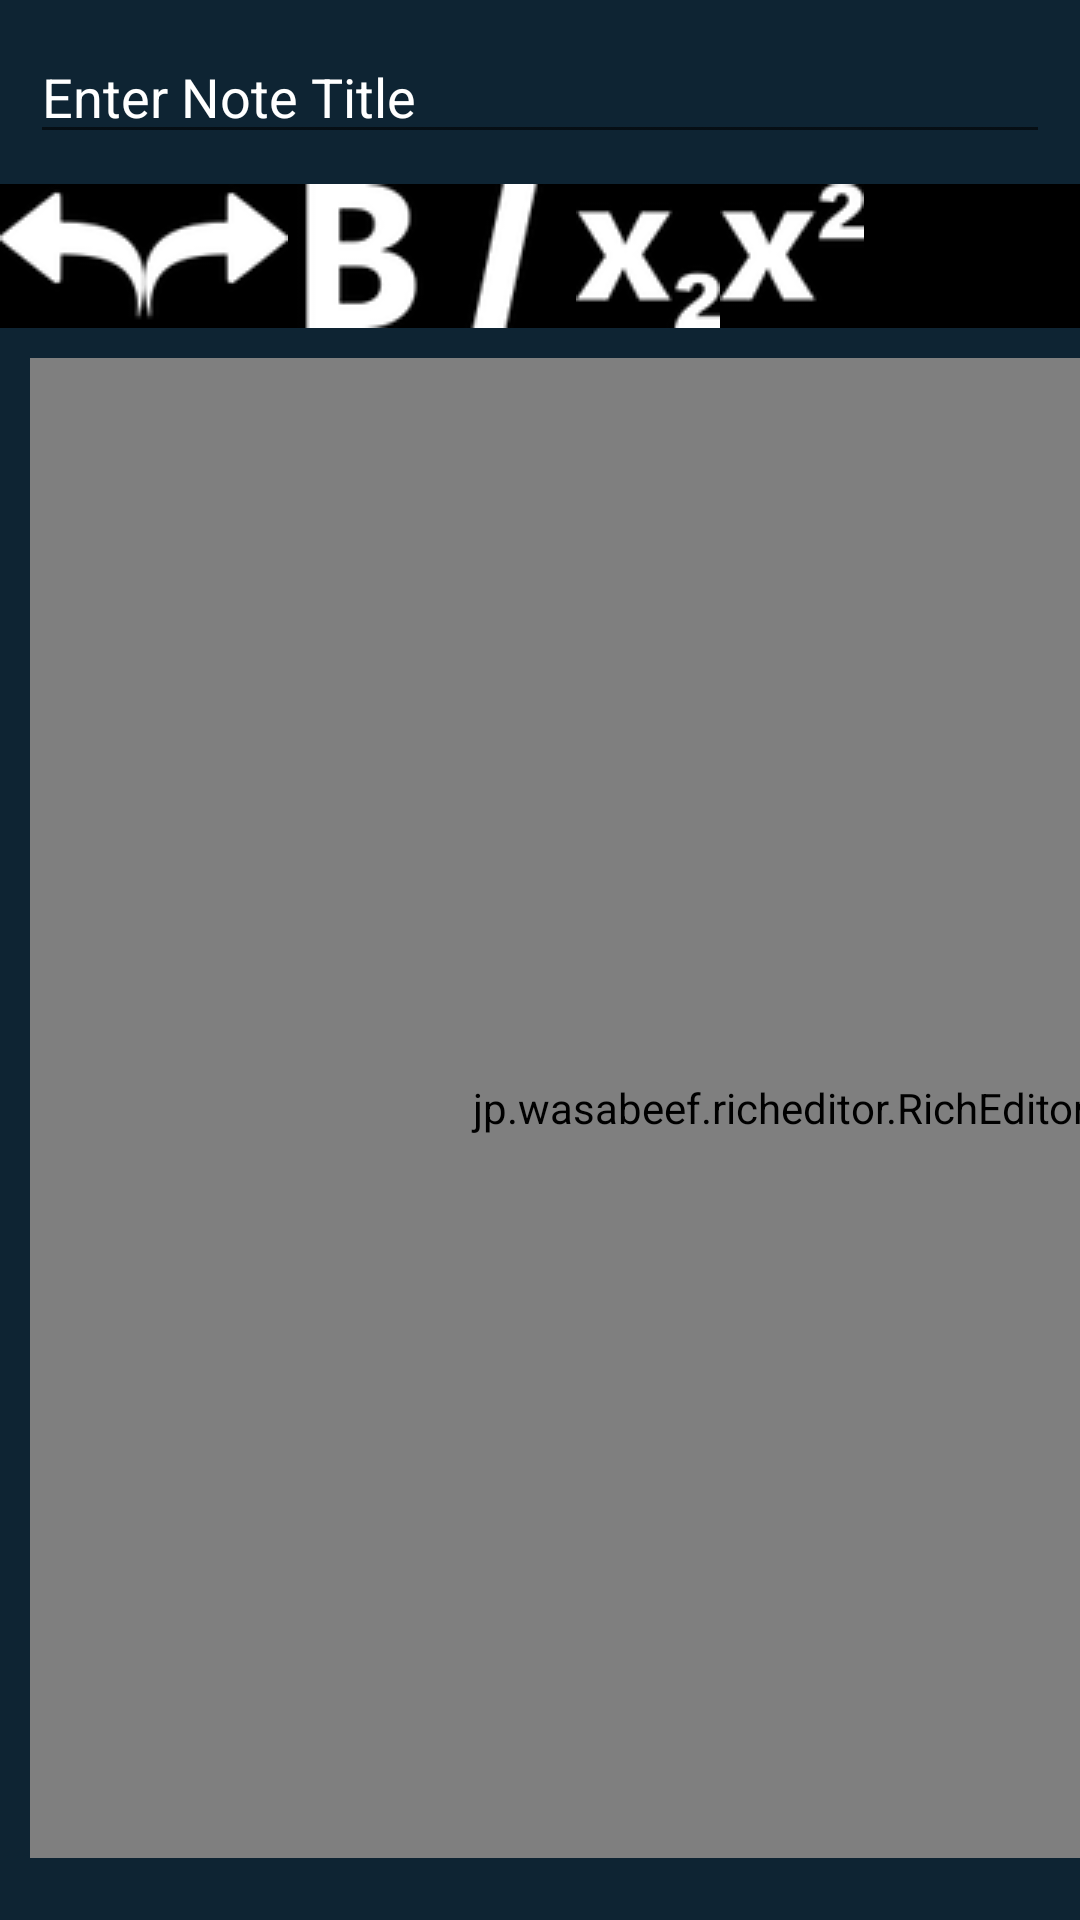

Icon click points for this 1080 x 1920 phone screenshot, format point (x, y):
italic: point (504, 256)
redo: point (216, 255)
subscript: point (648, 256)
superscript: point (792, 256)
undo: point (72, 256)
